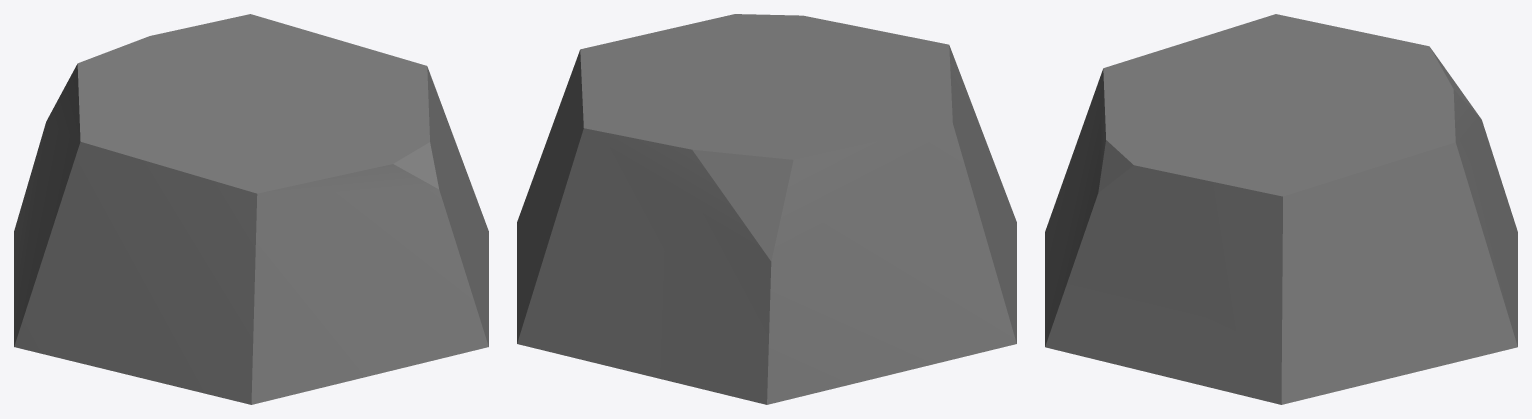
File: rock3.fbx
3 views of the same model, side by side, from view 1: azimuth 30°, elevation 25°; view 2: azimuth 150°, elevation 25°; view 3: azimuth 270°, elevation 25° (orthographic). The views are drawn at different scales.
Visible parts, largest first — view 1: rock3; view 2: rock3; view 3: rock3.
Boxes of the visible parts, x1,y1,x2,y2 form: rock3: (14,14,488,404); rock3: (517,14,1016,404); rock3: (1045,14,1517,404).
Bounding box in the file's own units: 460 × 181 × 399.
1 material, 1 textured.
